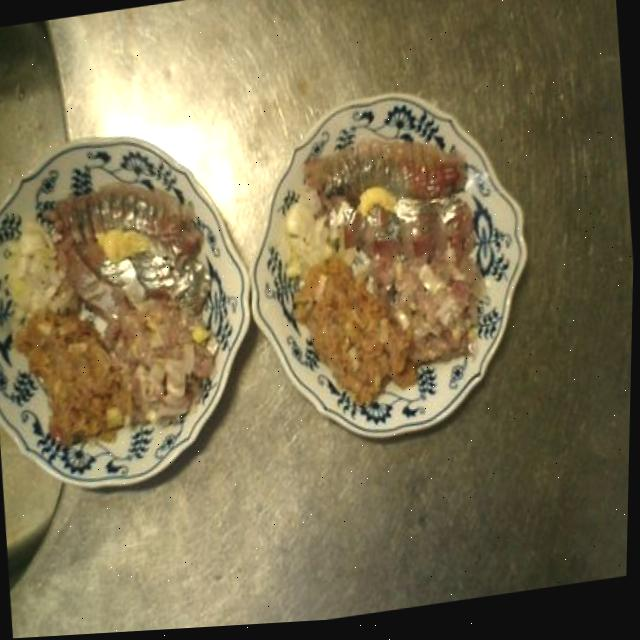熟制海鲜: (0, 47, 562, 513)
